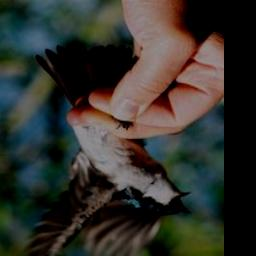Swallow: (3, 44, 195, 256)
